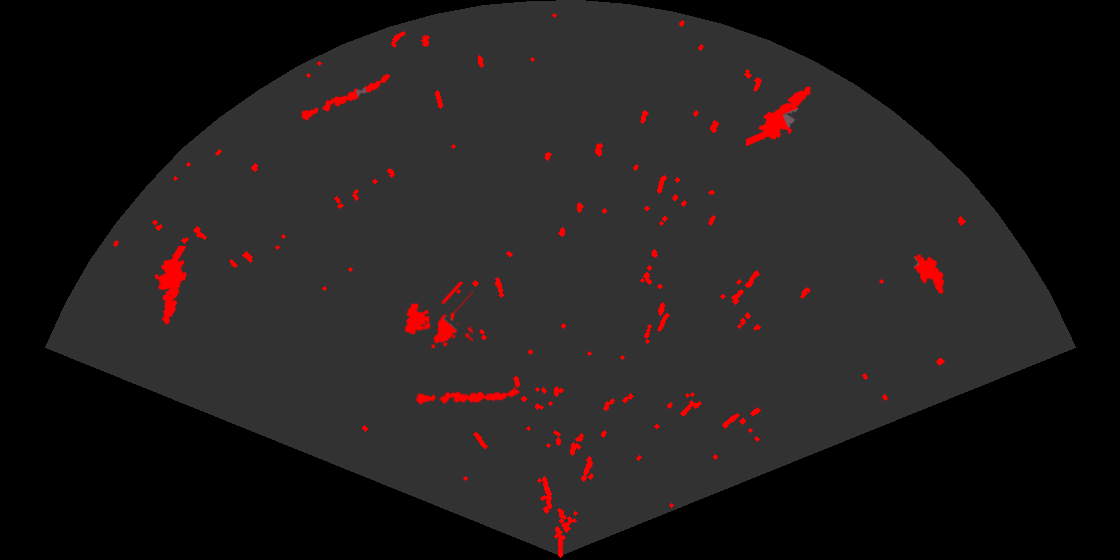AUV: (912, 253, 946, 295)
cage: (403, 282, 473, 350)
chain: (299, 72, 392, 122), (414, 388, 520, 406)
frogman: (746, 85, 813, 148), (153, 246, 188, 326)
